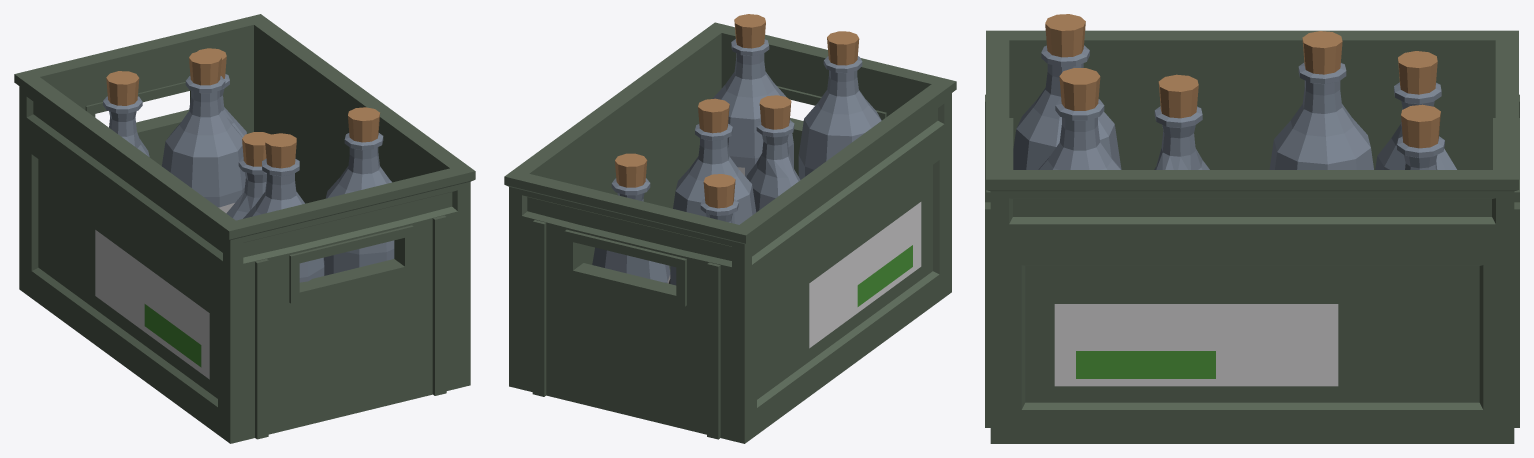
Rendered from SM_crate_bottles.gltf.
3 renders of one model, left to right at view 1: azimuth 30°, elevation 25°; view 2: azimuth 150°, elevation 25°; view 3: azimuth 270°, elevation 25°, orthographic. The views are drawn at different scales.
Visible parts, largest first — view 1: SM_crate_bottles; view 2: SM_crate_bottles; view 3: SM_crate_bottles.
Boxes of the visible parts, x1=… form: SM_crate_bottles: x1=14, y1=14, x2=475, y2=443; SM_crate_bottles: x1=504, y1=14, x2=956, y2=443; SM_crate_bottles: x1=985, y1=14, x2=1519, y2=443.
Bounding box in the file's own units: 0.4607 × 0.4681 × 0.6985.
Materials: 1 (1 with a texture image).
